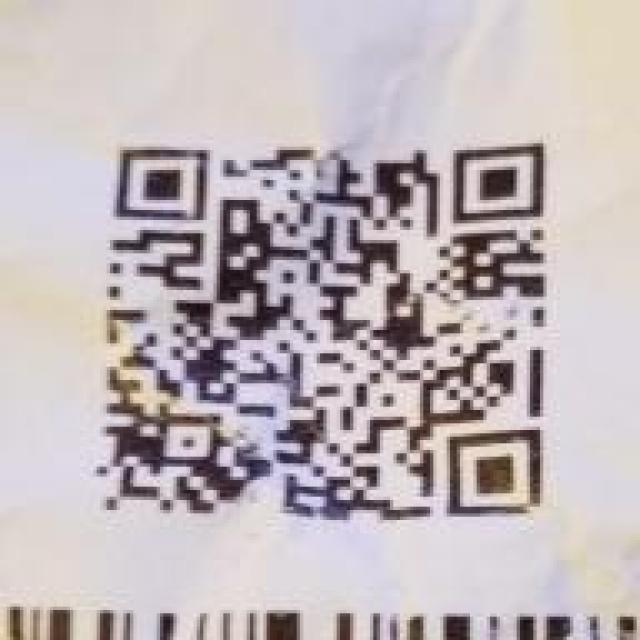QR_CODE: (72, 104, 573, 528)
